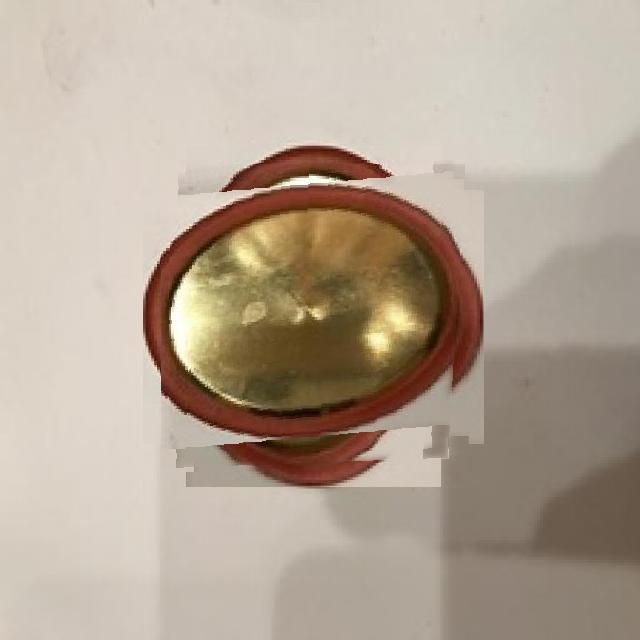recyclable: (161, 164, 466, 469)
